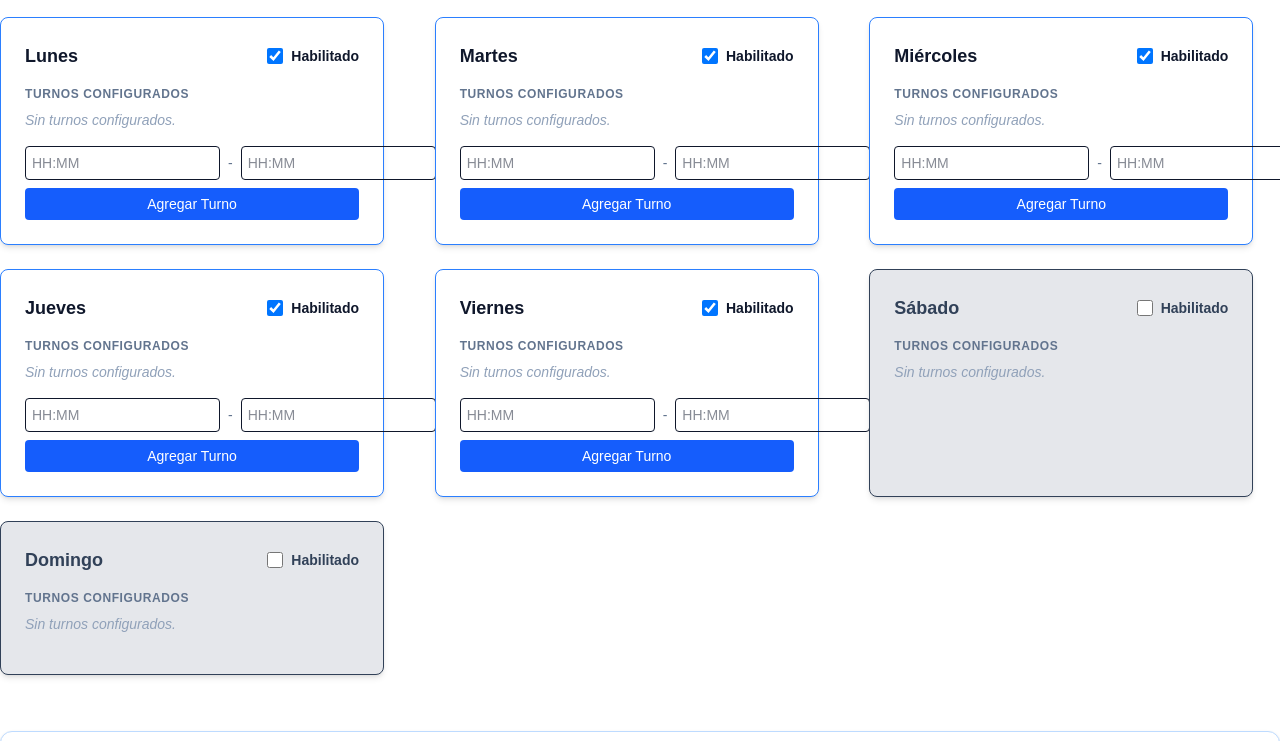
US_001: Deshabilitar/habilitar días de trabajo (Global) › Escenario 1: Habilitación de día (Sábado)
What coordinates should you click on to do the following:
click the checkbox with test id "dia-checkbox-sábado"
I would click on:
 (1145, 308)
Its box is [1137,300,1153,316].
(page scrolled)
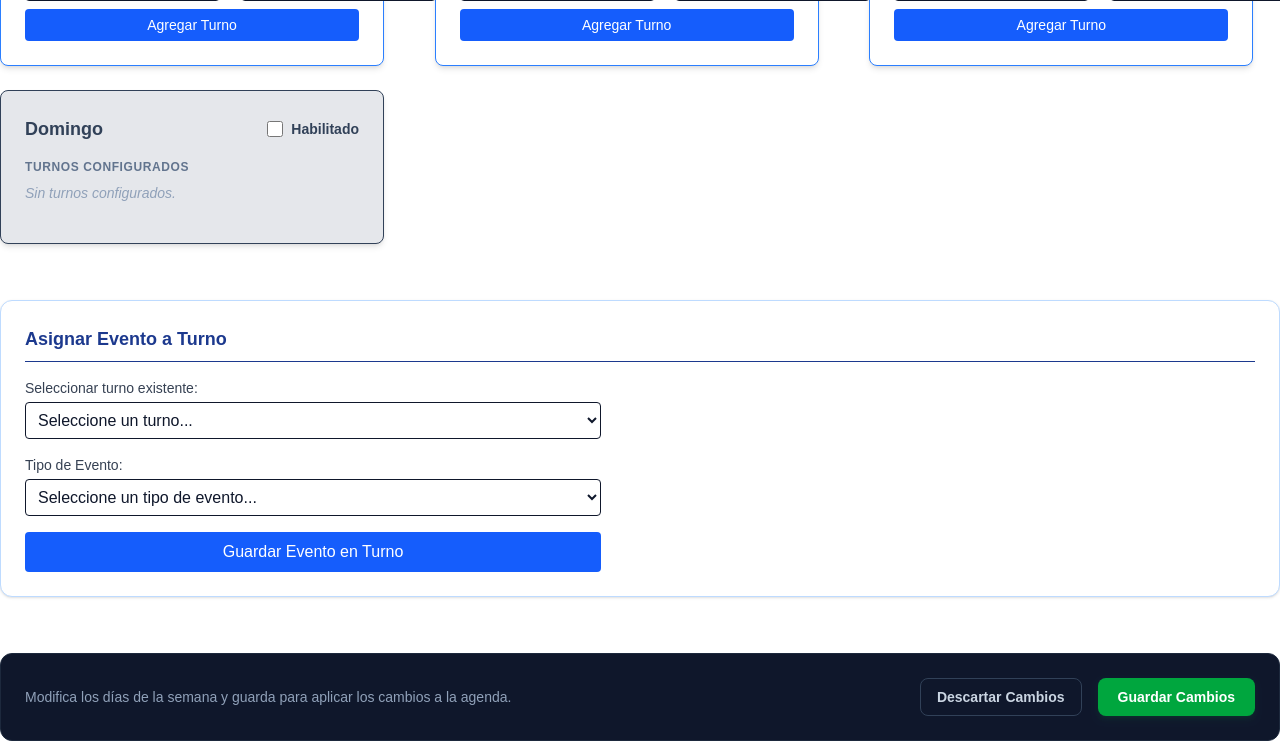
Note: Guardamos cambios globalmente
What coordinates should you click on to do the following:
click the button with test id "btn-guardar-global"
I would click on:
 (1176, 697)
Its box is [1098,678,1255,716].
(page scrolled)
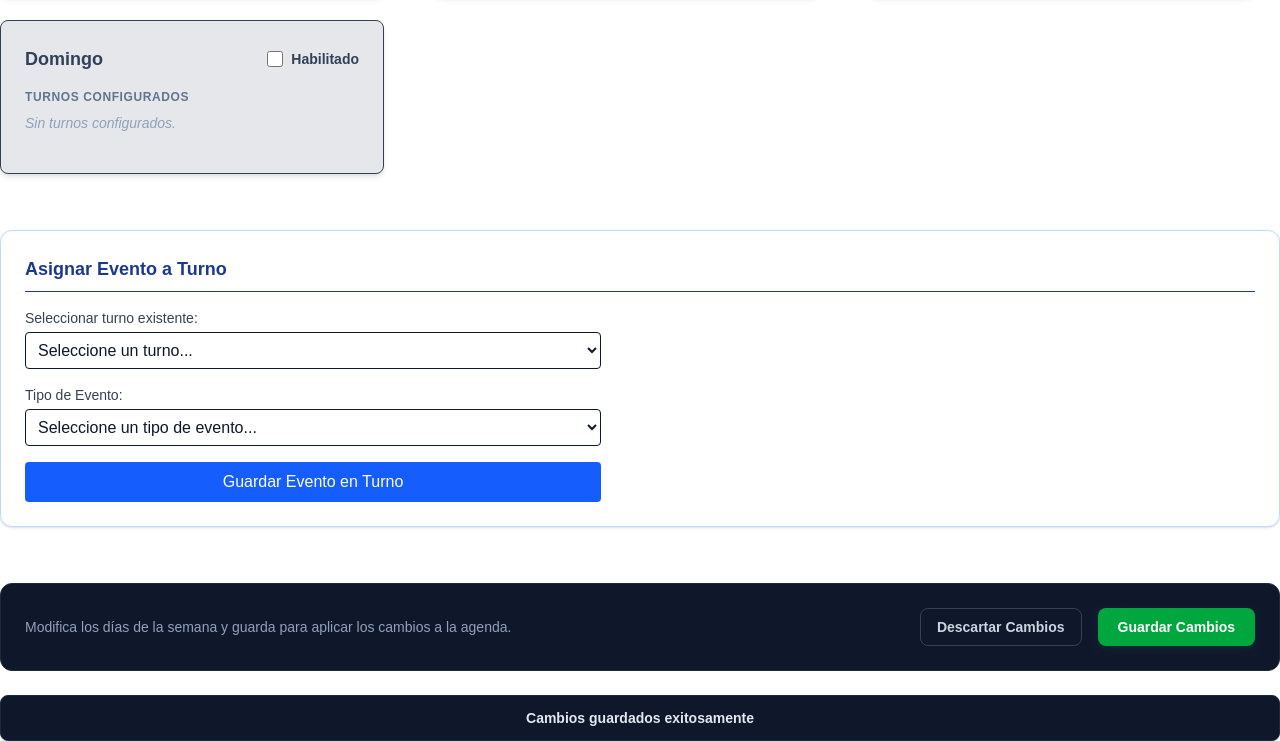
expect the text with test id "mensaje-alerta-global" reads "Cambios guardados exitosamente": met, box [526,710,754,726]
